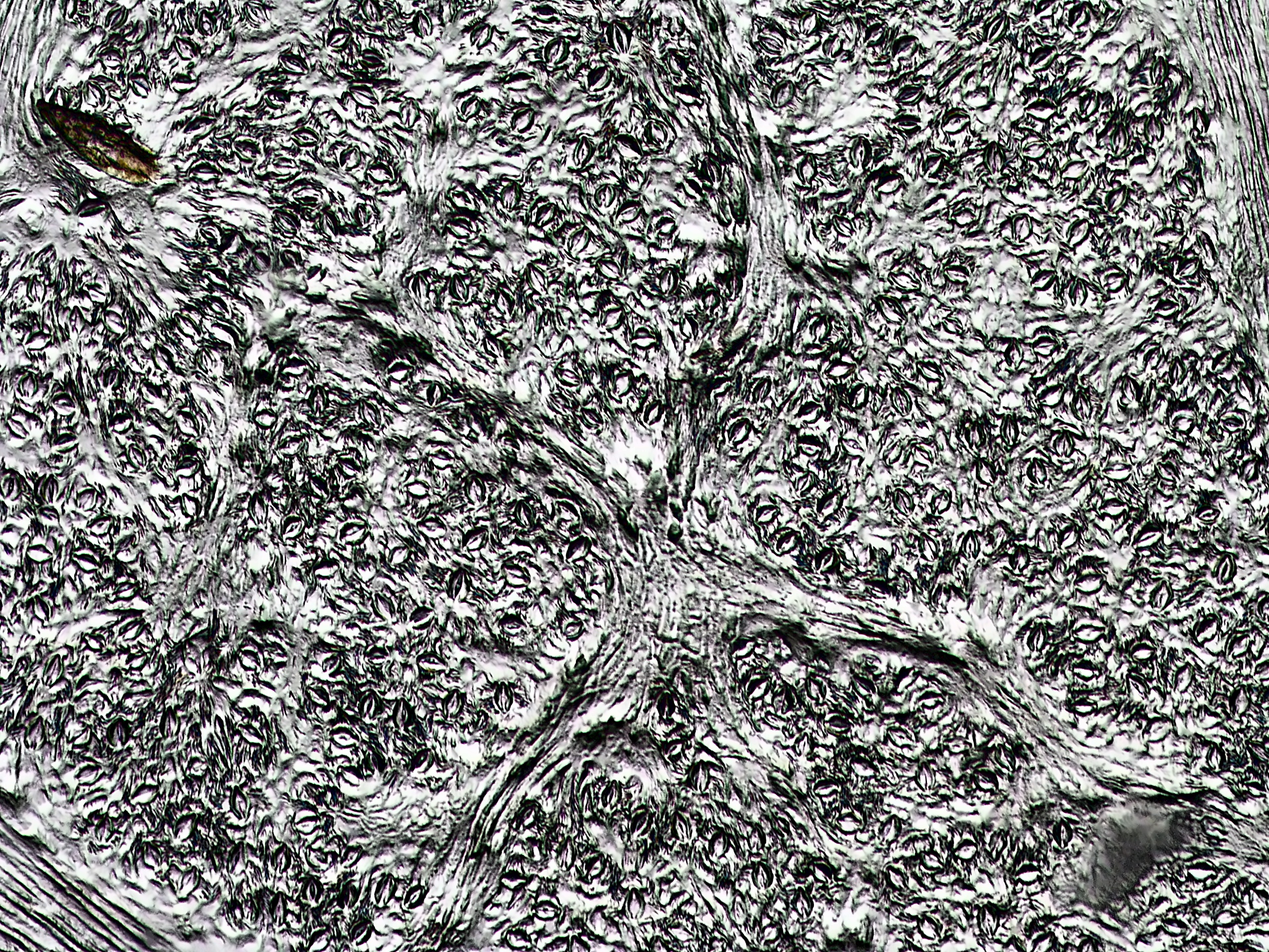stomata: (977, 901, 999, 939), (1230, 685, 1252, 723), (1195, 613, 1220, 646), (230, 785, 252, 822), (541, 36, 567, 67), (571, 136, 596, 168), (624, 885, 645, 923), (888, 270, 921, 294), (878, 296, 906, 324), (767, 80, 794, 109), (1070, 392, 1096, 422), (1074, 618, 1105, 643), (1149, 579, 1174, 610), (851, 135, 873, 170), (689, 760, 711, 795), (607, 22, 631, 54), (985, 11, 1009, 43), (499, 178, 522, 211), (358, 690, 384, 719), (24, 274, 49, 304), (173, 312, 203, 337), (613, 133, 643, 158), (276, 432, 306, 457), (189, 160, 223, 182), (566, 221, 588, 255), (1012, 861, 1043, 885), (159, 707, 182, 739), (528, 263, 551, 295), (1027, 99, 1059, 122), (1213, 553, 1236, 585), (599, 779, 622, 811), (494, 680, 515, 715), (232, 136, 260, 162), (891, 36, 919, 62), (587, 64, 612, 93), (675, 82, 705, 106), (888, 114, 924, 134), (804, 675, 828, 705), (503, 70, 534, 93), (67, 306, 90, 337), (359, 397, 382, 428), (772, 684, 795, 715), (823, 711, 854, 734), (417, 517, 449, 539), (973, 766, 999, 793), (1145, 717, 1171, 744), (291, 807, 319, 832), (772, 530, 800, 555), (993, 743, 1018, 771), (511, 105, 535, 134), (887, 385, 911, 414), (516, 802, 540, 831), (887, 725, 920, 746), (1067, 218, 1090, 248), (349, 85, 380, 107), (1132, 529, 1163, 551), (849, 754, 880, 776), (280, 515, 306, 541), (202, 264, 230, 288), (176, 866, 200, 894), (646, 118, 670, 146), (1067, 3, 1091, 31), (983, 142, 1004, 174), (917, 913, 941, 941), (173, 811, 196, 840), (918, 533, 941, 562), (532, 898, 561, 921), (835, 810, 864, 833), (555, 836, 574, 871), (375, 874, 395, 907), (464, 476, 486, 506), (670, 812, 692, 842), (1175, 660, 1195, 693), (398, 95, 419, 126), (797, 153, 818, 184), (306, 927, 332, 952), (1125, 675, 1151, 700), (751, 863, 775, 890), (127, 75, 155, 98), (264, 87, 292, 110), (131, 783, 159, 806), (336, 455, 364, 478), (183, 114, 215, 134), (811, 775, 843, 795), (418, 651, 447, 673), (893, 487, 915, 516), (279, 52, 309, 73), (293, 185, 323, 206), (22, 331, 52, 352), (229, 842, 247, 877), (916, 360, 946, 381), (498, 869, 528, 890), (1031, 45, 1056, 70), (104, 5, 128, 31), (174, 34, 198, 60), (798, 11, 822, 37), (885, 864, 909, 890), (211, 321, 238, 344), (72, 547, 99, 570), (1038, 384, 1065, 407), (658, 266, 678, 297), (247, 493, 267, 524), (961, 530, 981, 561), (175, 408, 197, 436), (349, 918, 371, 946), (339, 521, 367, 543), (1013, 214, 1035, 242), (1033, 335, 1061, 357), (583, 853, 605, 881), (914, 763, 936, 791), (879, 814, 901, 842), (271, 893, 289, 927), (413, 10, 434, 39), (330, 728, 359, 749), (1060, 160, 1089, 181), (1052, 818, 1073, 847), (949, 840, 978, 861), (1110, 123, 1129, 155), (274, 209, 298, 234), (138, 379, 162, 404), (238, 722, 263, 746), (463, 528, 488, 552), (1102, 269, 1127, 293), (840, 434, 865, 458), (794, 888, 814, 918), (810, 860, 835, 884), (745, 675, 769, 700), (1027, 621, 1047, 651), (402, 884, 425, 910), (1030, 267, 1056, 290), (851, 674, 877, 697), (1131, 641, 1157, 664), (386, 359, 413, 381), (444, 686, 462, 719), (818, 490, 840, 517), (631, 812, 653, 839), (22, 543, 53, 562), (708, 830, 727, 861), (1073, 660, 1101, 681), (516, 500, 536, 529), (1019, 139, 1048, 159), (1107, 185, 1127, 214), (273, 842, 291, 874), (450, 569, 468, 601), (759, 30, 783, 54), (824, 358, 856, 376), (305, 473, 328, 498), (447, 216, 473, 238), (965, 422, 987, 448), (25, 719, 44, 749), (1074, 575, 1104, 594), (1209, 744, 1228, 774), (171, 72, 198, 93), (101, 310, 128, 331), (17, 371, 38, 398), (665, 50, 686, 77), (493, 286, 514, 313), (952, 207, 979, 228), (567, 537, 588, 564), (794, 731, 815, 758), (1228, 631, 1249, 658), (395, 697, 412, 730), (1000, 414, 1017, 447), (367, 163, 395, 183), (553, 366, 581, 386), (308, 385, 328, 413), (810, 315, 830, 343), (499, 565, 527, 585), (1099, 497, 1127, 517), (42, 473, 60, 504), (1193, 106, 1211, 137), (52, 392, 76, 415), (945, 264, 969, 287), (1209, 349, 1233, 372), (198, 9, 217, 38), (449, 272, 468, 301), (374, 591, 393, 620), (1103, 462, 1132, 481), (118, 619, 143, 641), (944, 111, 969, 133), (556, 499, 581, 521), (846, 384, 868, 409), (753, 503, 778, 525), (292, 127, 318, 148), (67, 725, 93, 746), (364, 748, 385, 774), (534, 200, 555, 226), (1175, 172, 1196, 198), (1027, 459, 1048, 485), (929, 489, 950, 515), (1009, 547, 1030, 573), (1031, 931, 1057, 952), (84, 81, 104, 108), (272, 156, 299, 176), (318, 209, 338, 236), (203, 296, 230, 316), (154, 341, 172, 371), (109, 719, 129, 746), (339, 766, 366, 786), (612, 369, 632, 396), (896, 84, 923, 104), (1003, 341, 1023, 368), (815, 547, 835, 574), (506, 929, 533, 949), (1069, 279, 1088, 307), (976, 457, 995, 485), (305, 684, 328, 707), (451, 187, 474, 210), (244, 1, 266, 25), (109, 412, 133, 434), (75, 486, 97, 510), (186, 756, 208, 780), (1239, 457, 1261, 481), (1145, 113, 1162, 144), (99, 46, 124, 67), (326, 29, 351, 50), (174, 456, 199, 477), (88, 515, 113, 536), (593, 182, 614, 207), (1056, 430, 1074, 459), (747, 824, 765, 853), (53, 432, 79, 452), (410, 273, 430, 299), (341, 146, 360, 173), (181, 492, 200, 519), (0, 472, 19, 499), (876, 174, 903, 193), (1121, 376, 1140, 403), (411, 606, 434, 628), (315, 557, 338, 579), (921, 155, 944, 177), (632, 326, 656, 347), (752, 378, 770, 406), (1236, 374, 1254, 402), (360, 48, 385, 68), (352, 202, 372, 227), (470, 23, 490, 48), (94, 816, 114, 841), (410, 749, 430, 774), (728, 419, 748, 444), (143, 842, 162, 868), (532, 2, 558, 21), (865, 21, 884, 47), (940, 316, 966, 335), (1196, 505, 1222, 524), (280, 357, 309, 374), (945, 736, 972, 754), (359, 0, 381, 22), (84, 282, 106, 304), (597, 258, 620, 279), (798, 434, 821, 455), (1058, 525, 1079, 548), (732, 639, 755, 660), (431, 450, 455, 470), (496, 618, 526, 634), (113, 582, 141, 599), (917, 691, 945, 708), (127, 445, 146, 470), (75, 765, 100, 784), (1151, 56, 1169, 82), (1169, 357, 1187, 383), (38, 506, 60, 527), (833, 214, 854, 236), (617, 202, 640, 222), (680, 178, 703, 198), (679, 314, 699, 337), (389, 544, 409, 567), (665, 737, 685, 760), (197, 223, 221, 242), (365, 645, 389, 664), (303, 878, 321, 903), (702, 156, 720, 181), (1155, 299, 1180, 317), (643, 399, 661, 424), (1069, 698, 1097, 714), (825, 34, 842, 60), (1080, 91, 1097, 117), (1143, 347, 1160, 373), (126, 652, 147, 673), (793, 473, 814, 494), (603, 306, 623, 328), (427, 383, 446, 406), (254, 409, 277, 428), (1155, 460, 1178, 479), (921, 849, 944, 868), (44, 655, 59, 684), (658, 693, 675, 718), (407, 478, 429, 497), (342, 884, 358, 910), (460, 98, 478, 121), (101, 365, 119, 388), (238, 650, 259, 669), (482, 335, 500, 357), (1172, 411, 1194, 429), (197, 347, 213, 371), (33, 594, 49, 618), (580, 408, 604, 424), (798, 405, 822, 421), (320, 654, 339, 674), (86, 633, 107, 651), (550, 392, 571, 410), (1076, 937, 1101, 952), (1180, 258, 1197, 280), (565, 620, 583, 639), (1222, 416, 1242, 433), (1052, 558, 1066, 582), (658, 217, 675, 236), (1259, 595, 1269, 623)
